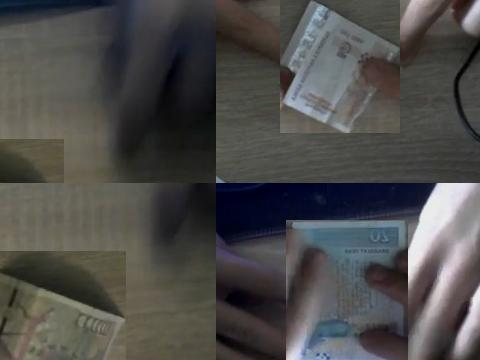10leva: (0, 270, 126, 360)
20leva: (295, 220, 408, 360)
5leva: (280, 0, 400, 133)
